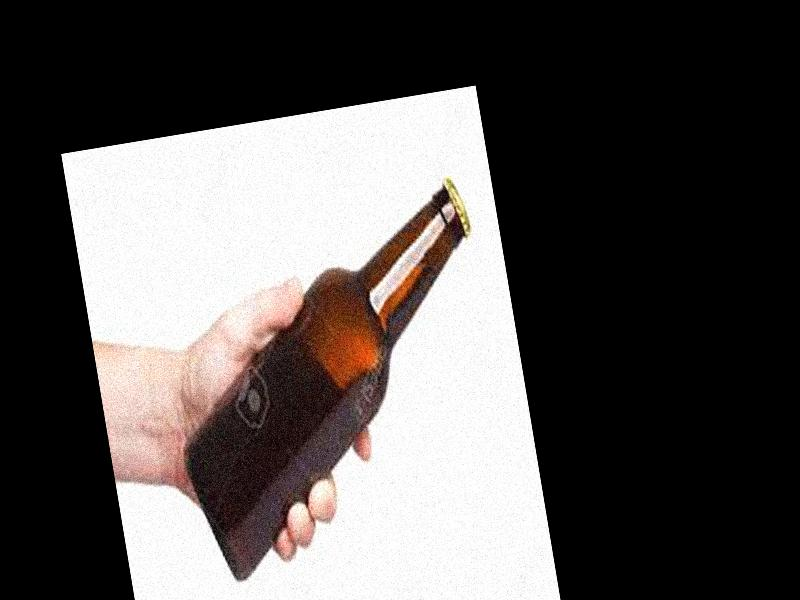Beer: (147, 174, 520, 583)
